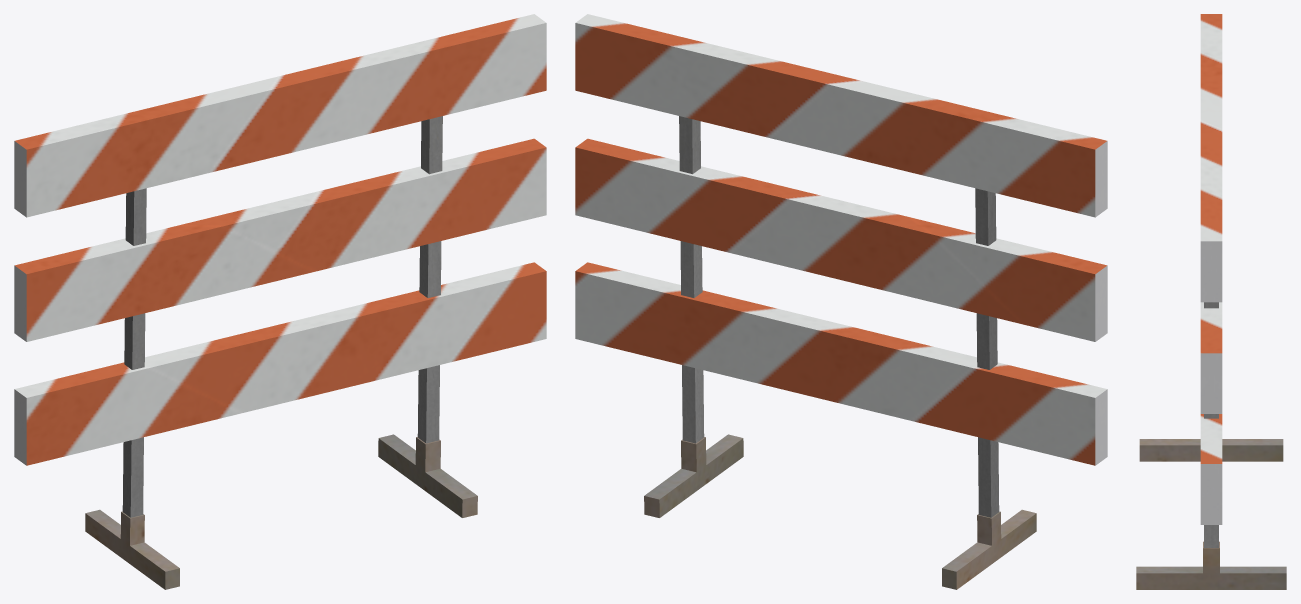
File: Barricade3S.fbx
3 views of the same model, side by side, from view 1: azimuth 30°, elevation 25°; view 2: azimuth 150°, elevation 25°; view 3: azimuth 270°, elevation 25° (orthographic). The views are drawn at different scales.
Visible parts, largest first — view 1: Barricade3S; view 2: Barricade3S; view 3: Barricade3S.
Part boxes in pixels (x1,y1,x2,y2): Barricade3S: (14,14,546,589); Barricade3S: (575,14,1107,589); Barricade3S: (1136,14,1286,589).
Size of the model in its own units: 149 by 121 by 41.68.
1 material, 1 textured.
